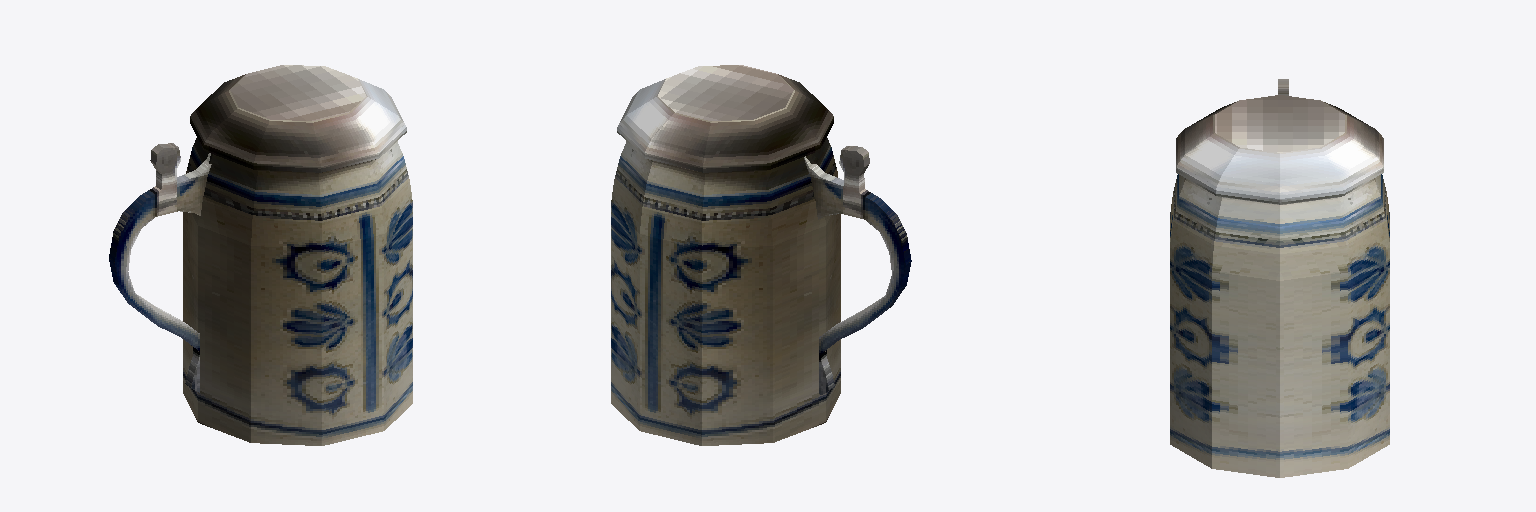
3 renders of one model, left to right at view 1: azimuth 30°, elevation 25°; view 2: azimuth 150°, elevation 25°; view 3: azimuth 270°, elevation 25°, orthographic.
Parts seen in each view (by area): view 1: tankard; view 2: tankard; view 3: tankard.
Boxes of the visible parts, x1=… form: tankard: x1=109, y1=65, x2=412, y2=445; tankard: x1=611, y1=65, x2=911, y2=445; tankard: x1=1170, y1=79, x2=1389, y2=477.
Bounding box in the file's own units: 0.2455 × 0.2512 × 0.1643.
Materials: 1 (1 with a texture image).